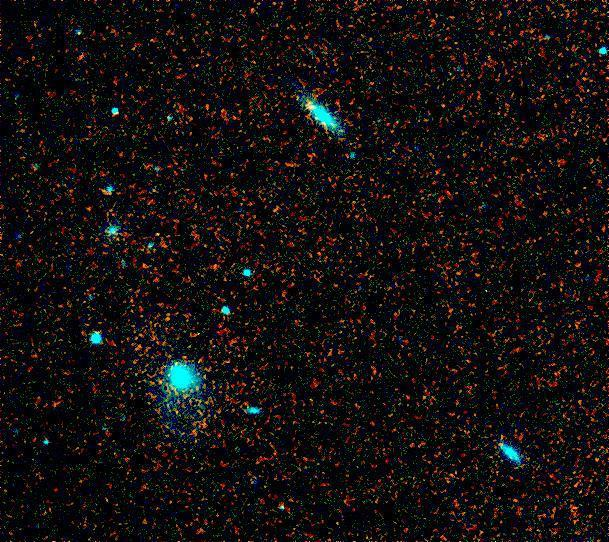star: (289, 87, 319, 117)
